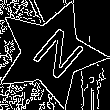N_SW: (18, 22, 83, 86)
